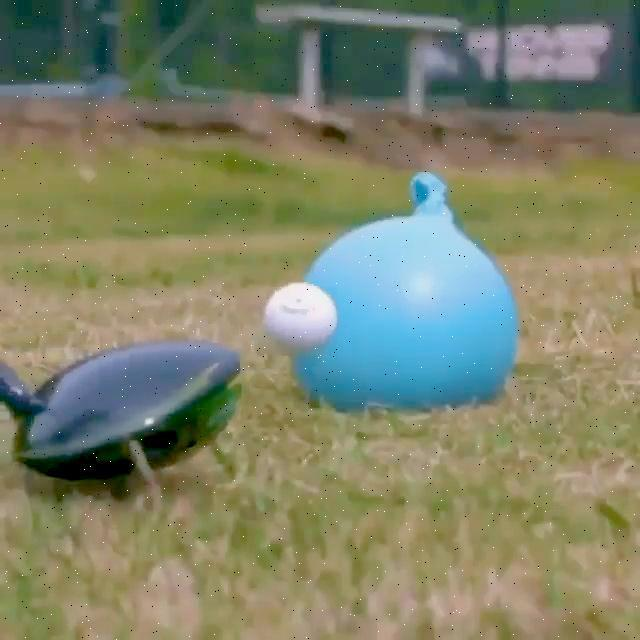ClubHead: (14, 343, 242, 479)
GolfBall: (264, 283, 334, 351)
